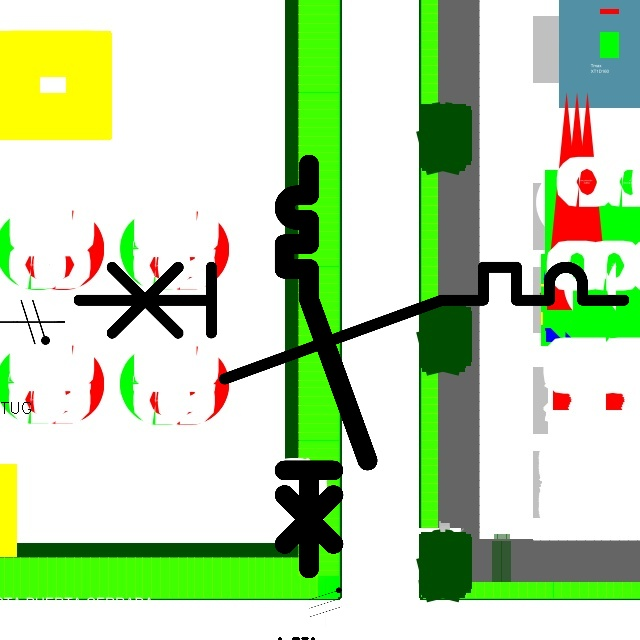interruptor_termomagnetico: (64, 253, 637, 393), (274, 154, 378, 579)
